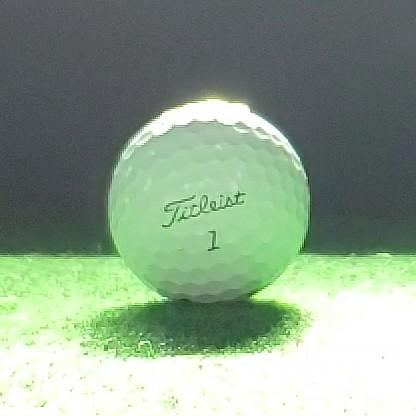golfball: (108, 101, 309, 304)
